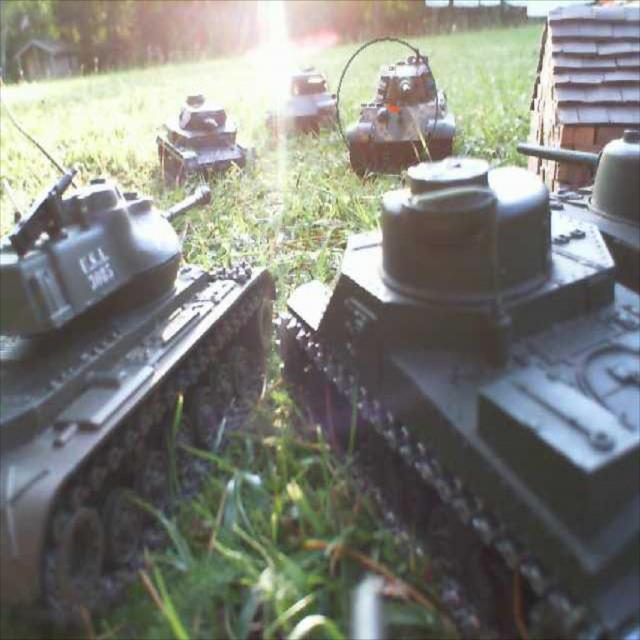tank: (280, 127, 639, 638), (0, 162, 278, 638), (344, 40, 454, 182), (155, 90, 259, 194), (263, 61, 341, 140)
